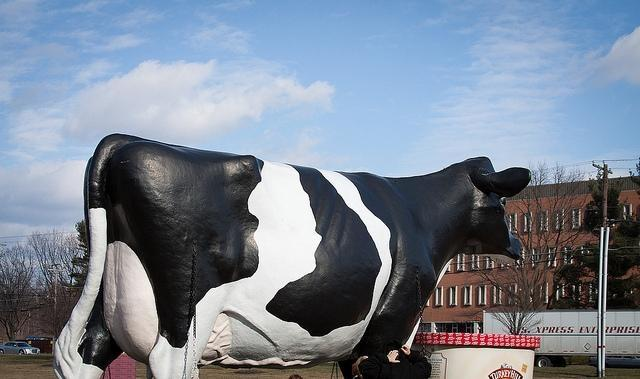car: (1, 340, 42, 356)
truck: (483, 309, 640, 367)
